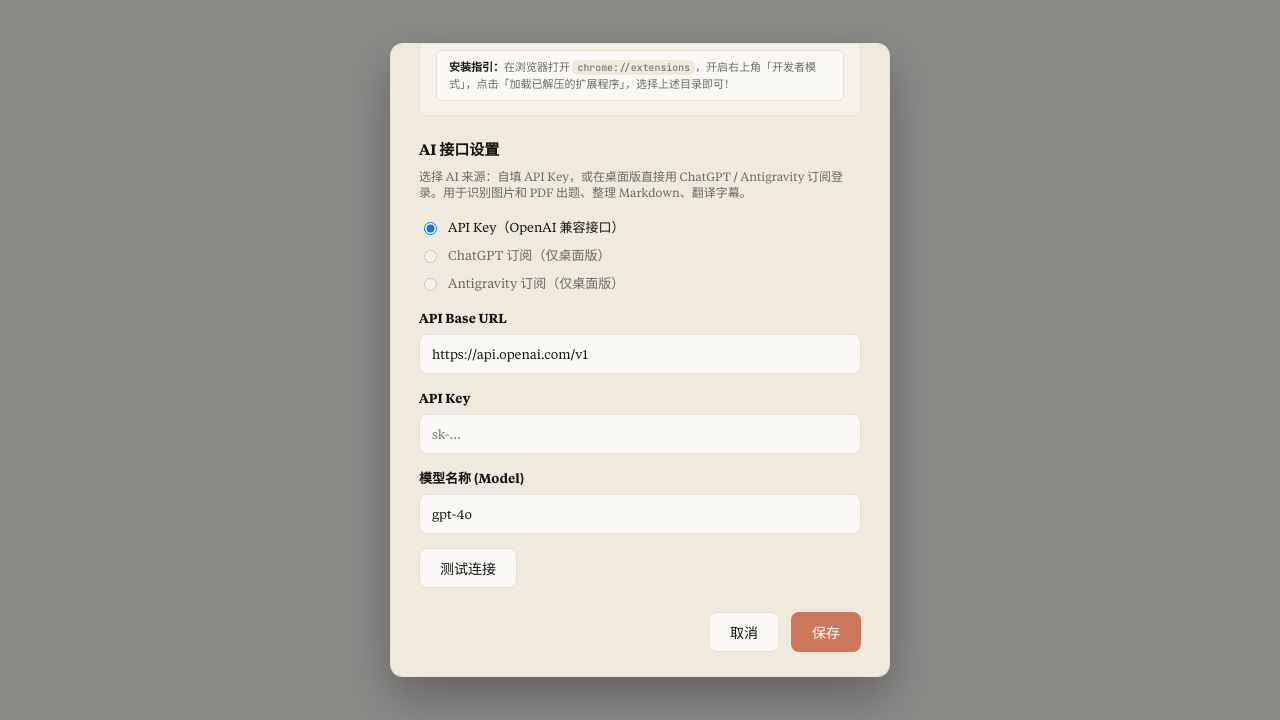
Scenario: SettingsModal AI settings › tests the connection with the unsaved settings
(page scrolled)
What coordinates should you click on to do the following:
click the button "测试连接"
I would click on:
 (468, 568)
Its box is [419, 548, 517, 588].
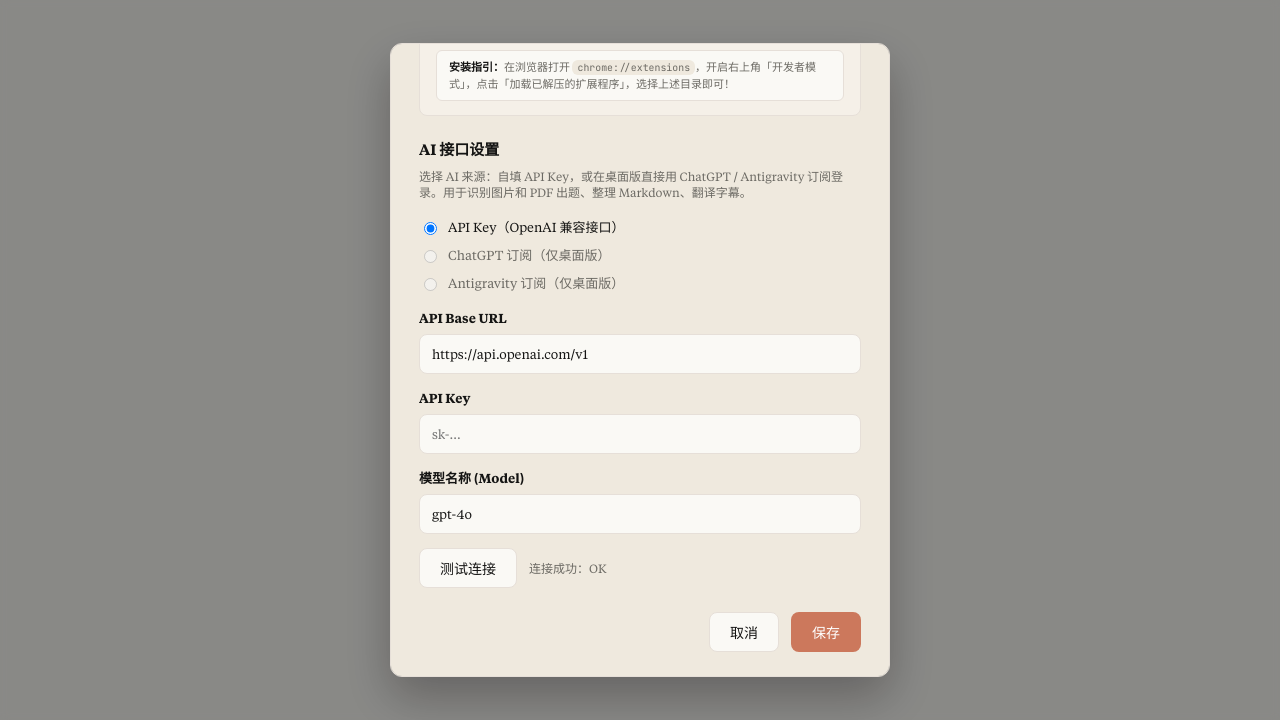
Result: the text "连接成功：OK" is shown at [529, 560, 606, 577]
